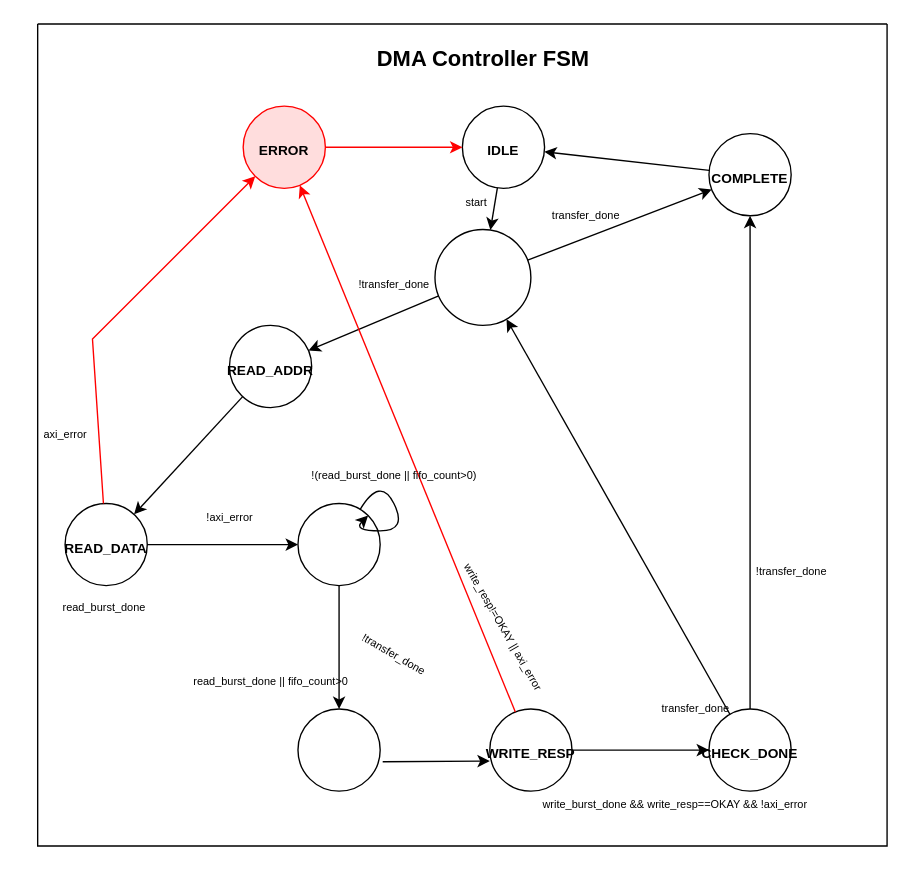
Image size: 911x870. Some labels were removed from this diagram. Each missing label, with the centre of its shape:
"CALC_BURST" goes at point (482, 276).
"WRITE_ADDR" goes at point (338, 544).
"WRITE_DATA" goes at point (338, 749).
